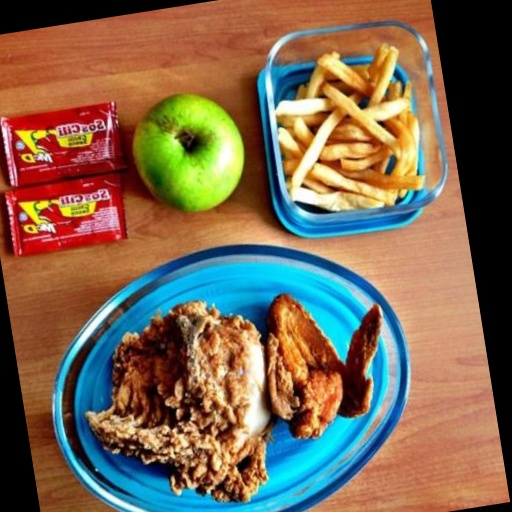fruit: (132, 94, 243, 211)
